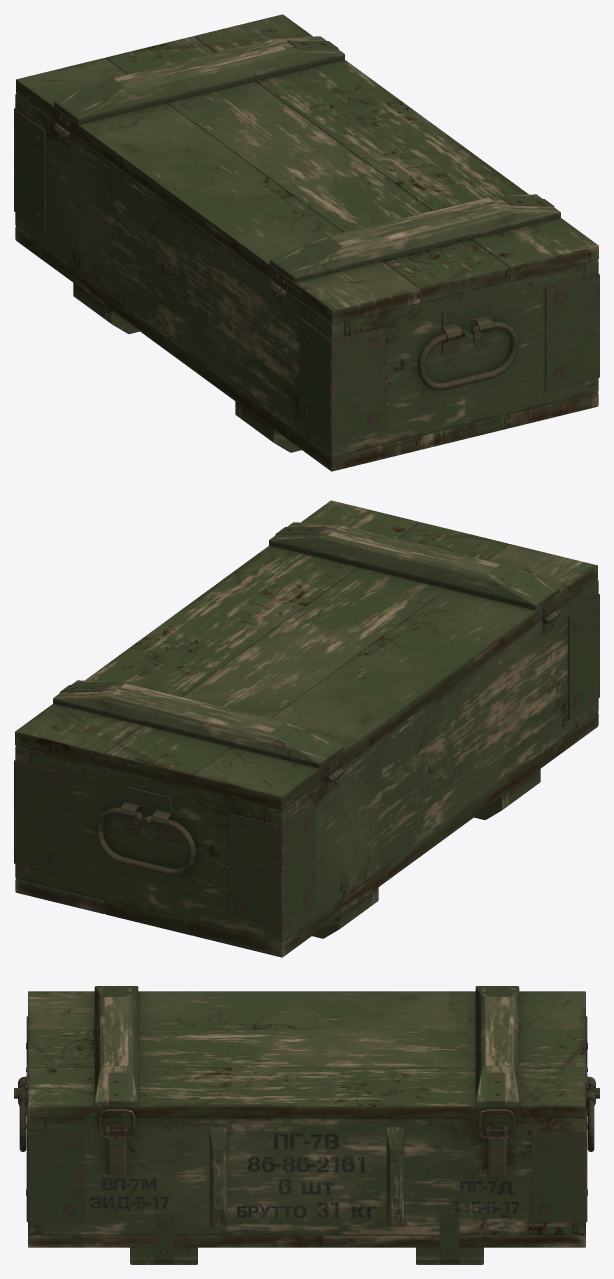
File: 彈藥箱處理.glb
3 renders of one model, top to bottom at view 1: azimuth 30°, elevation 25°; view 2: azimuth 150°, elevation 25°; view 3: azimuth 270°, elevation 25°, orthographic. The views are drawn at different scales.
Visible parts, largest first — view 1: 0d88d644-872d-4c9a-b3a4-bbc4301758c6; view 2: 0d88d644-872d-4c9a-b3a4-bbc4301758c6; view 3: 0d88d644-872d-4c9a-b3a4-bbc4301758c6.
Part boxes in pixels (bbox=[...]): 0d88d644-872d-4c9a-b3a4-bbc4301758c6: bbox=[14, 14, 599, 471]; 0d88d644-872d-4c9a-b3a4-bbc4301758c6: bbox=[14, 500, 599, 957]; 0d88d644-872d-4c9a-b3a4-bbc4301758c6: bbox=[14, 986, 599, 1264].
Bounding box in the file's own units: 0.4 × 0.2802 × 0.81.
Materials: 1 (1 with a texture image).
